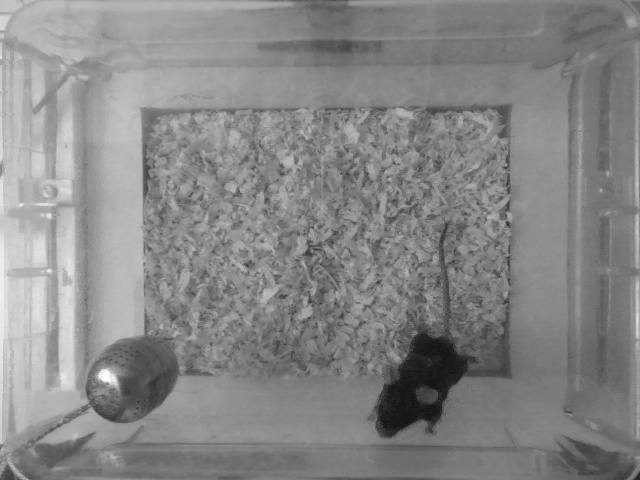mice: (361, 220, 470, 441)
